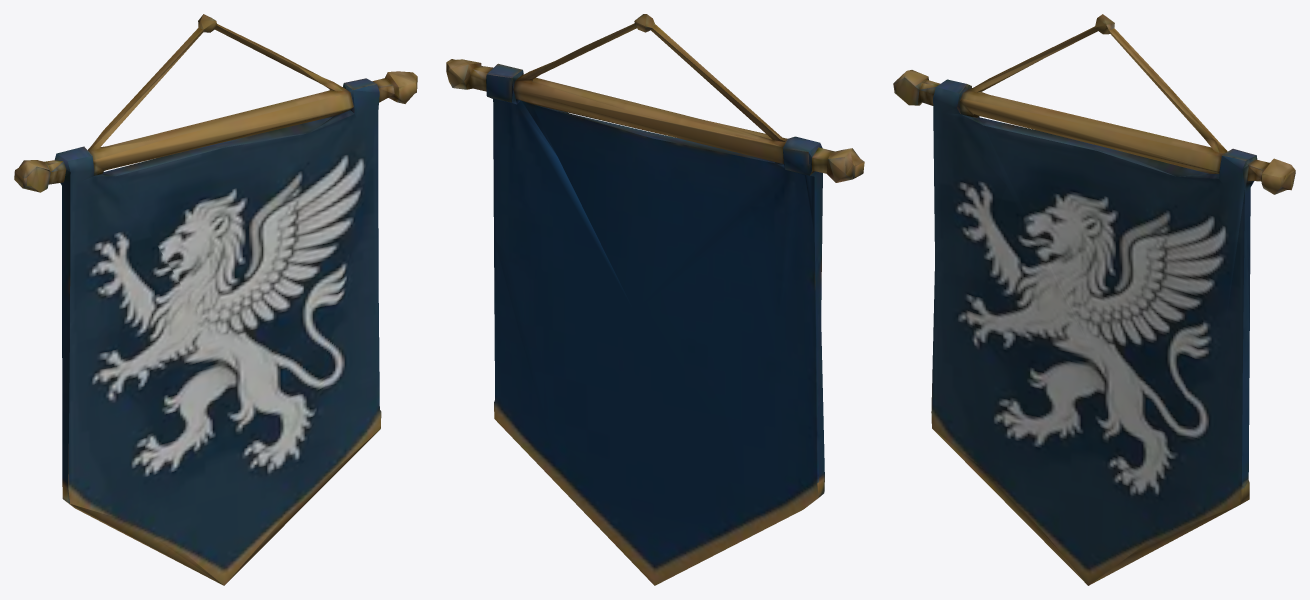
The model's file is obj_banner_good.glb.
3 renders of one model, left to right at view 1: azimuth 30°, elevation 25°; view 2: azimuth 150°, elevation 25°; view 3: azimuth 330°, elevation 25°, orthographic. The views are drawn at different scales.
Parts seen in each view (by area): view 1: Mesh_0; view 2: Mesh_0; view 3: Mesh_0.
Part boxes in pixels (<box>): Mesh_0: <box>14,14,417,585</box>; Mesh_0: <box>446,14,864,585</box>; Mesh_0: <box>893,14,1295,585</box>.
Size of the model in its own units: 1.48 by 2 by 0.1547.
1 material, 1 textured.
